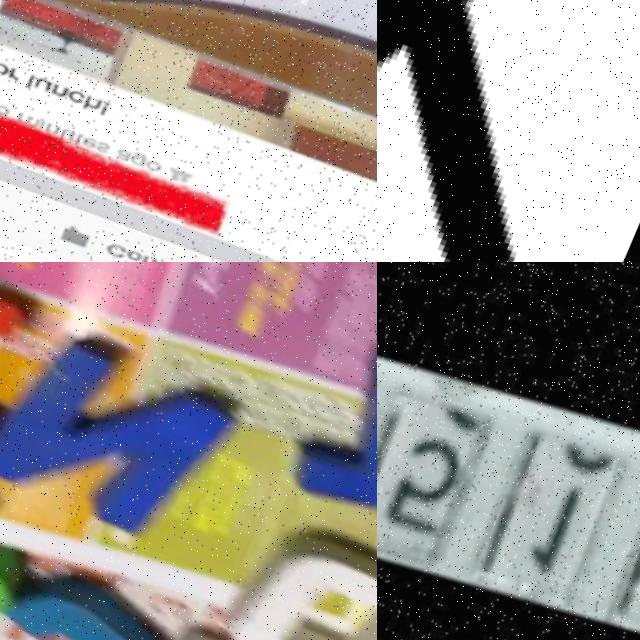1: (494, 470, 605, 611)
5: (377, 423, 478, 569), (0, 105, 10, 122)
C: (0, 431, 45, 640)
I: (0, 262, 46, 476)
J: (0, 547, 194, 640)
N: (0, 314, 252, 569)
Q: (193, 504, 377, 640)
T: (284, 333, 377, 556)
X: (377, 0, 640, 262)
